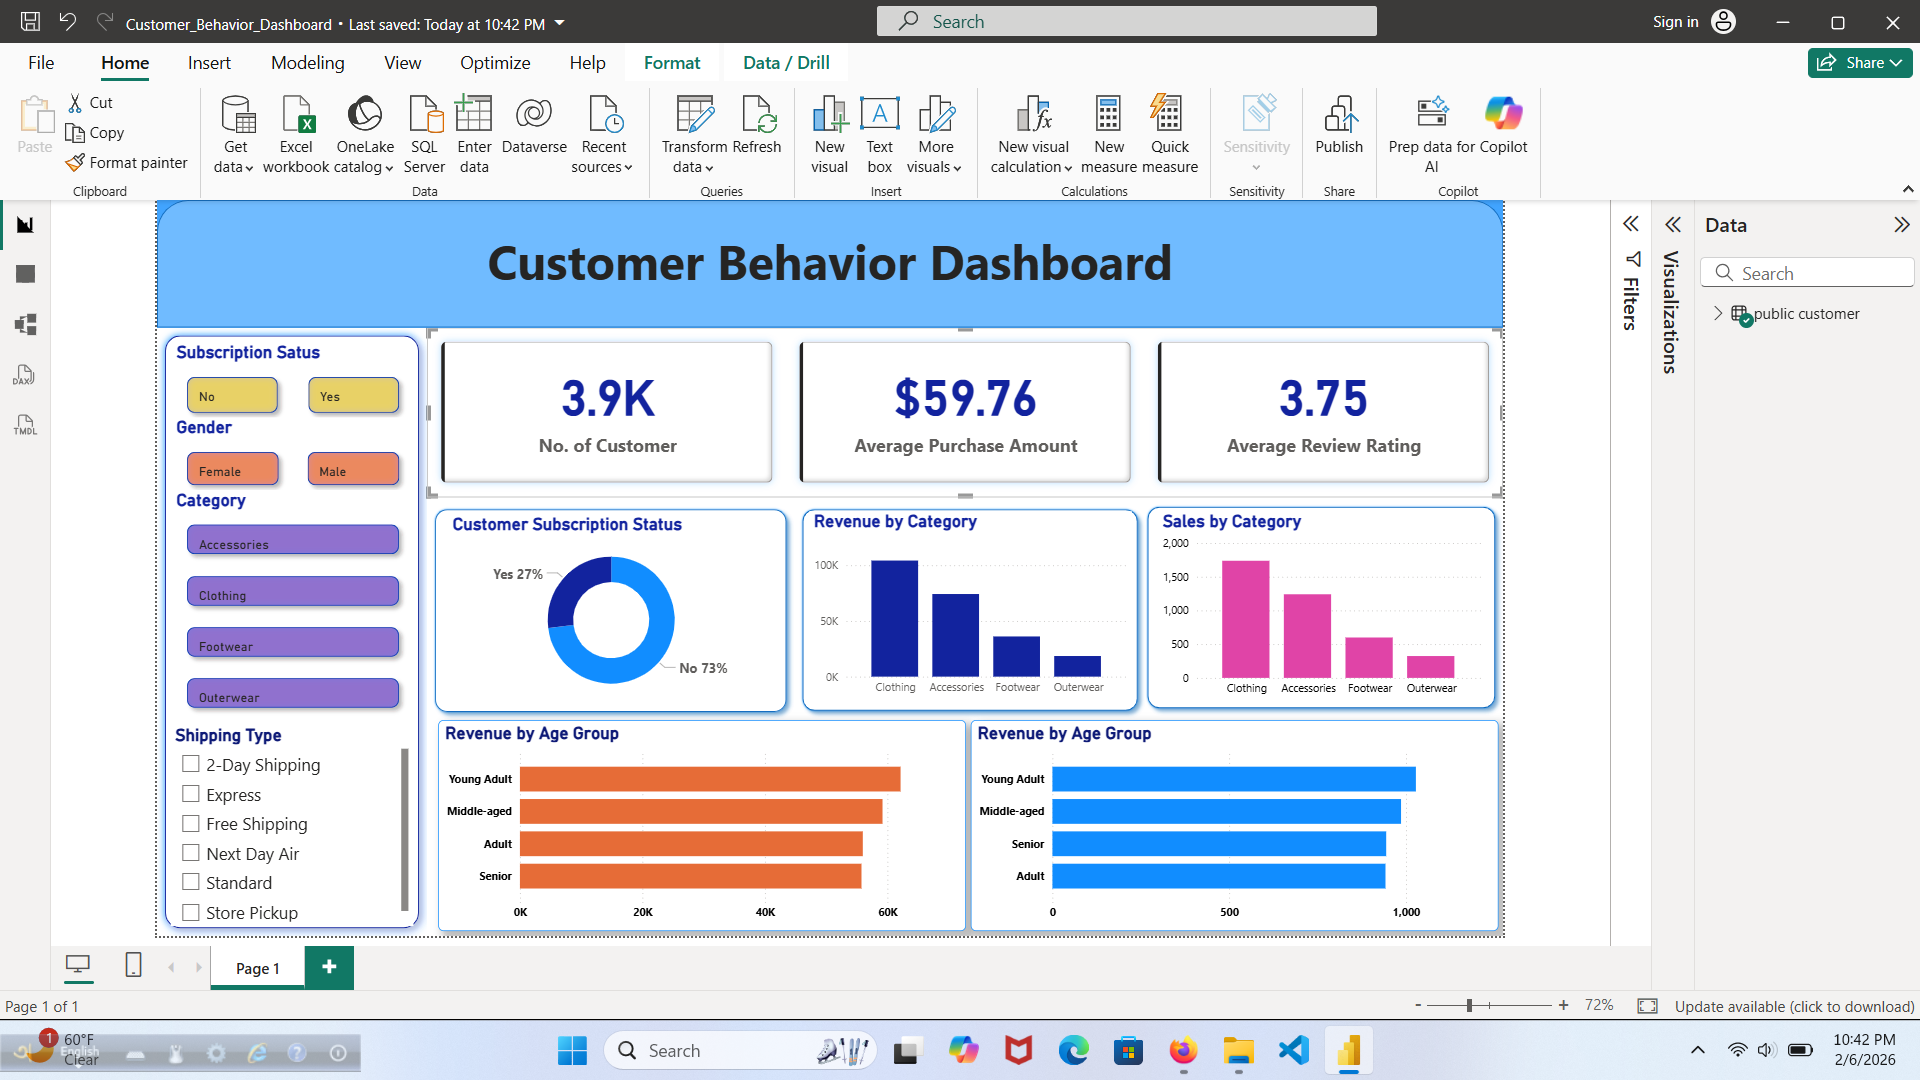

The page's visual inventory and layout, read from the dashboard file:
{"tool":"powerbi","page":{"name":"Page 1","canvas":[1500,820],"ordinal":0},"visuals":[{"type":"cardVisual","fields":{"Data":["public customer.No. of Customer","public customer.Average Purchase Amount","public customer.Average Review Rating"]},"box":[300.8,142.1,1199.1,189.4],"z":0},{"type":"shape","box":[0,0,1499.9,142.1],"z":1000},{"type":"textbox","box":[0,26.5,1499.9,115.6],"z":2000},{"type":"shape","box":[300.8,335.6,409.4,243.7],"z":3000},{"type":"donutChart","title":"Customer Subscription Status","fields":{"Category":["public customer.subscription_status"],"Y":["CountNonNull(public customer.customer_id)"]},"box":[324.5,349.6,363.5,215.9],"z":4000},{"type":"shape","box":[1094.6,332.8,405.3,242.3],"z":5000},{"type":"shape","box":[710.3,335.6,391.3,242.3],"z":6000},{"type":"clusteredColumnChart","title":"Revenue by Category","fields":{"Y":["Sum(public customer.purchase_amount_usd)"],"Category":["public customer.category"]},"box":[727,346.8,359.3,214.5],"z":7000},{"type":"clusteredColumnChart","title":"Sales by Category","fields":{"Y":["CountNonNull(public customer.customer_id)"],"Category":["public customer.category"]},"box":[1115.5,346.8,364.9,215.9],"z":8000},{"type":"shape","box":[0,142.1,300.8,678.2],"z":9000},{"type":"advancedSlicerVisual","title":"Subscription Satus","fields":{"Values":["public customer.subscription_status"]},"box":[16.7,158.8,270.2,96.1],"z":10000},{"type":"advancedSlicerVisual","title":"Gender","fields":{"Values":["public customer.gender"]},"box":[16.7,242.3,270.2,93.3],"z":11000},{"type":"advancedSlicerVisual","title":"Category","fields":{"Values":["public customer.category"]},"box":[16.7,323.1,270.2,261.8],"z":12000},{"type":"slicer","title":"Shipping Type","fields":{"Values":["public customer.shipping_type"]},"box":[15.3,584.9,270.2,224.2],"z":12001},{"type":"clusteredBarChart","title":"Revenue by Age Group","fields":{"Category":["public customer.age_group"],"Y":["Sum(public customer.purchase_amount_usd)"]},"box":[313.4,579.4,587.7,235.4],"z":12003},{"type":"clusteredBarChart","title":"Revenue by Age Group","fields":{"Category":["public customer.age_group"],"Y":["CountNonNull(public customer.customer_id)"]},"box":[906.6,579.4,587.7,235.4],"z":12004}]}

Visuals, with their boxes on the page's 1500x820 design canvas (x1, y1, x2, y2). These are canvas units, not pixel positions in the 1920x1080 screenshot, which may show the page scaled, cropped or inside an application window:
cardVisual - public customer.No. of Customer x public customer.Average Purchase Amount: (left=301, top=142, right=1500, bottom=332)
shape: (left=0, top=0, right=1500, bottom=142)
textbox: (left=0, top=26, right=1500, bottom=142)
shape: (left=301, top=336, right=710, bottom=579)
"Customer Subscription Status" donutChart: (left=324, top=350, right=688, bottom=566)
shape: (left=1095, top=333, right=1500, bottom=575)
shape: (left=710, top=336, right=1102, bottom=578)
"Revenue by Category" clusteredColumnChart: (left=727, top=347, right=1086, bottom=561)
"Sales by Category" clusteredColumnChart: (left=1116, top=347, right=1480, bottom=563)
shape: (left=0, top=142, right=301, bottom=820)
"Subscription Satus" advancedSlicerVisual: (left=17, top=159, right=287, bottom=255)
"Gender" advancedSlicerVisual: (left=17, top=242, right=287, bottom=336)
"Category" advancedSlicerVisual: (left=17, top=323, right=287, bottom=585)
"Shipping Type" slicer: (left=15, top=585, right=286, bottom=809)
"Revenue by Age Group" clusteredBarChart: (left=313, top=579, right=901, bottom=815)
"Revenue by Age Group" clusteredBarChart: (left=907, top=579, right=1494, bottom=815)
